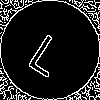L: (25, 25, 74, 79)
